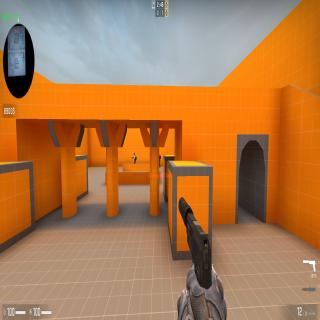T-Body: (134, 152, 136, 164), (160, 154, 160, 168)
T-Head: (134, 152, 135, 156)
